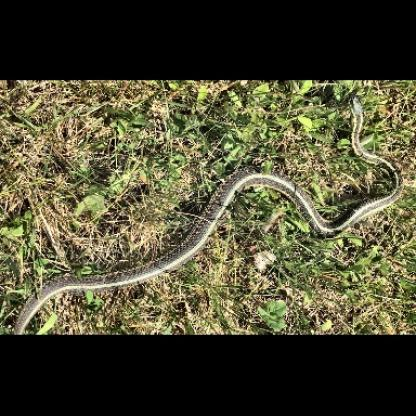Snake: (312, 89, 407, 248)
